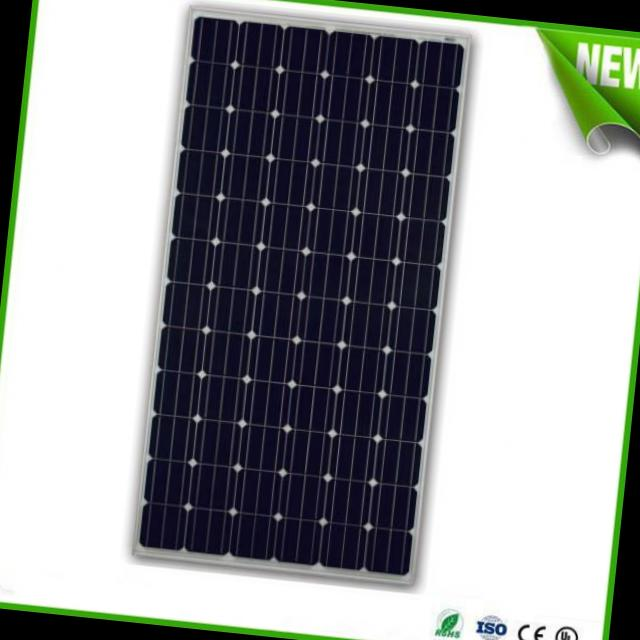no faulty: (140, 21, 463, 574)
